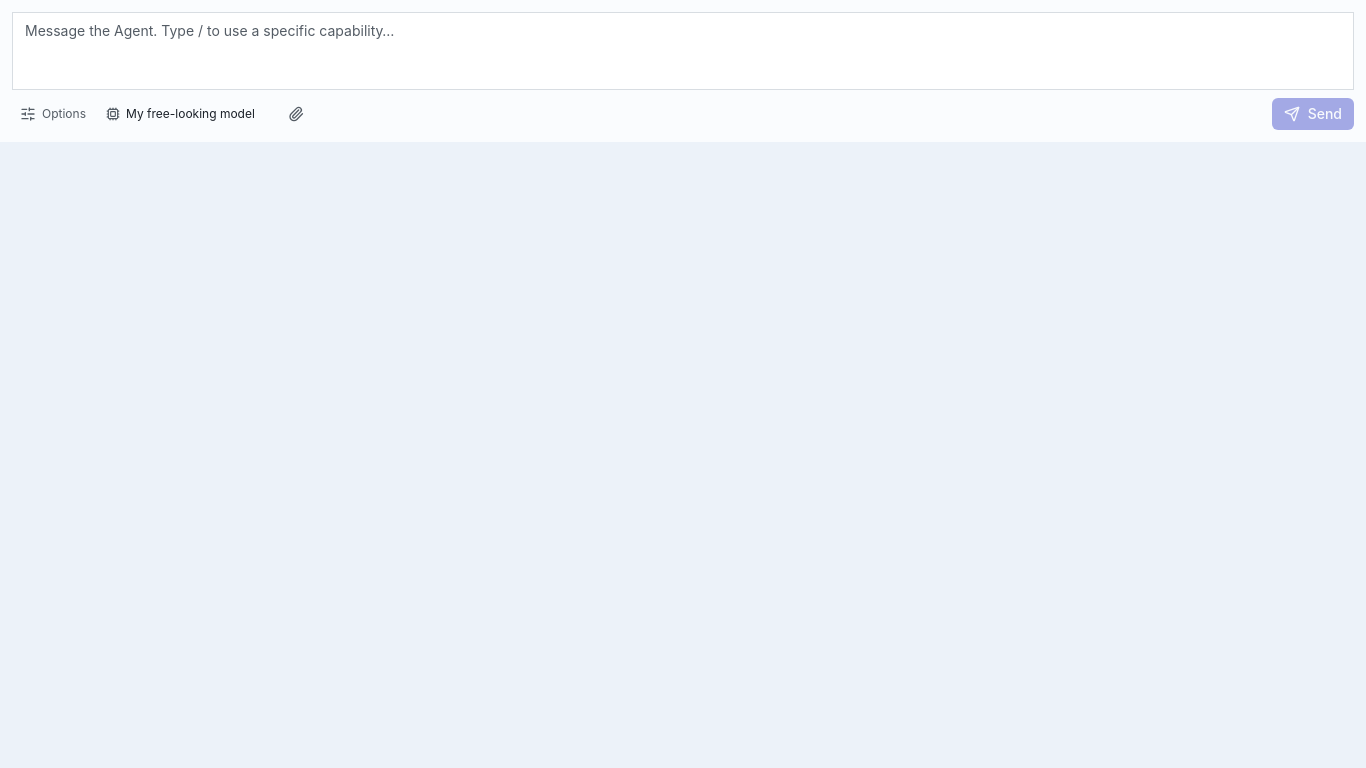
Test: ChatComposer Stop › does not infer free pricing from a manual connection model id
This screenshot has width=1366, height=768.
Step 1. Click the button with test id "chat-model-select" → [187, 114], box x1=98 y1=98 x2=276 y2=130
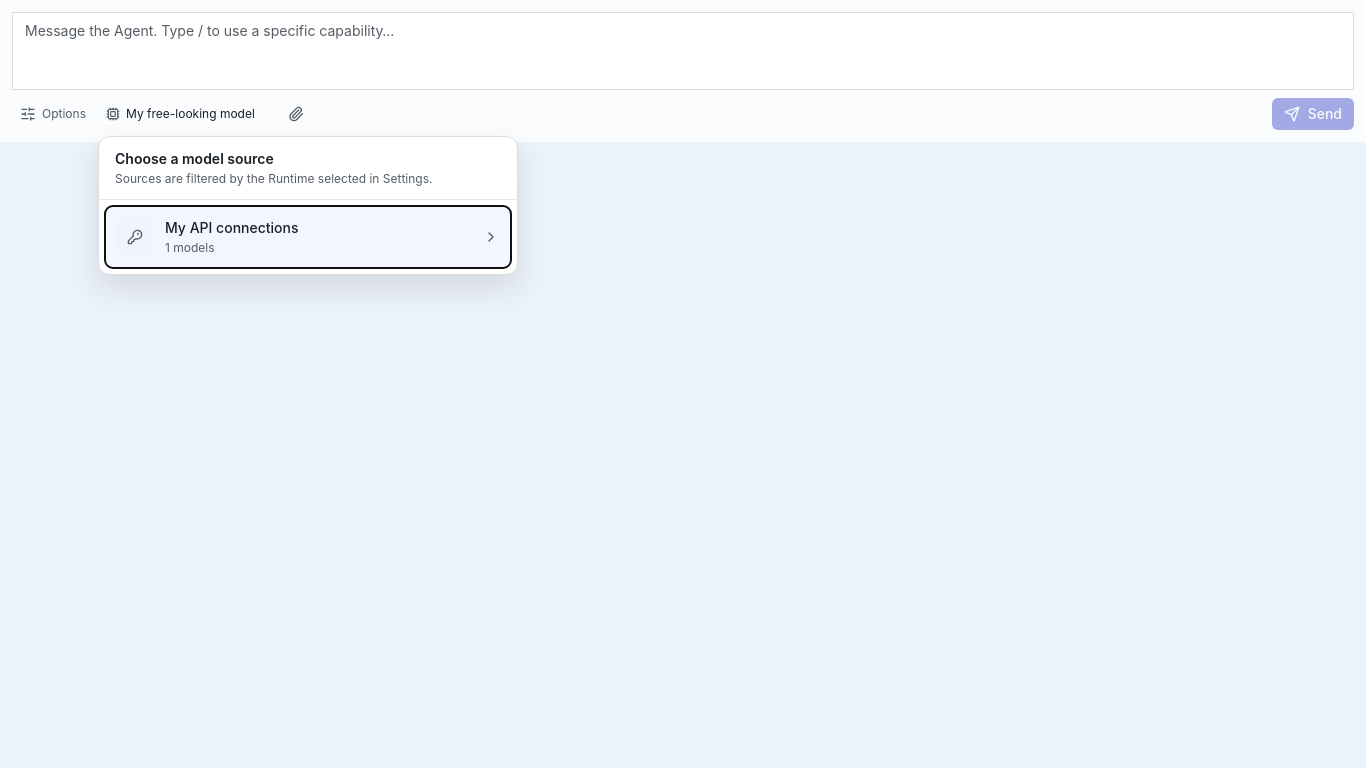
Step 2. Click the button "My API connections 1 models" → [135, 237], box x1=105 y1=206 x2=511 y2=268
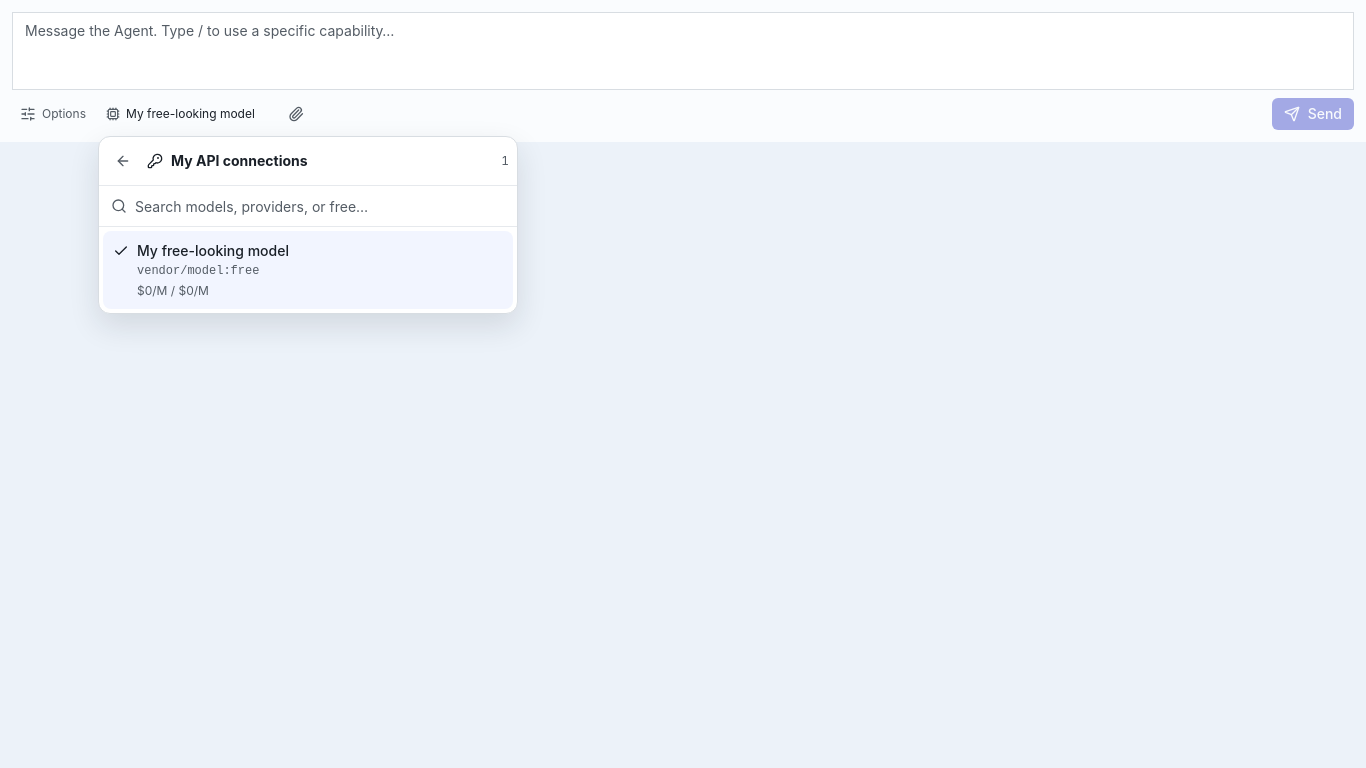
Expected: the button "My free-looking model vendor/model:free $0/M / $0/M" is shown, x1=103 y1=231 x2=513 y2=309
